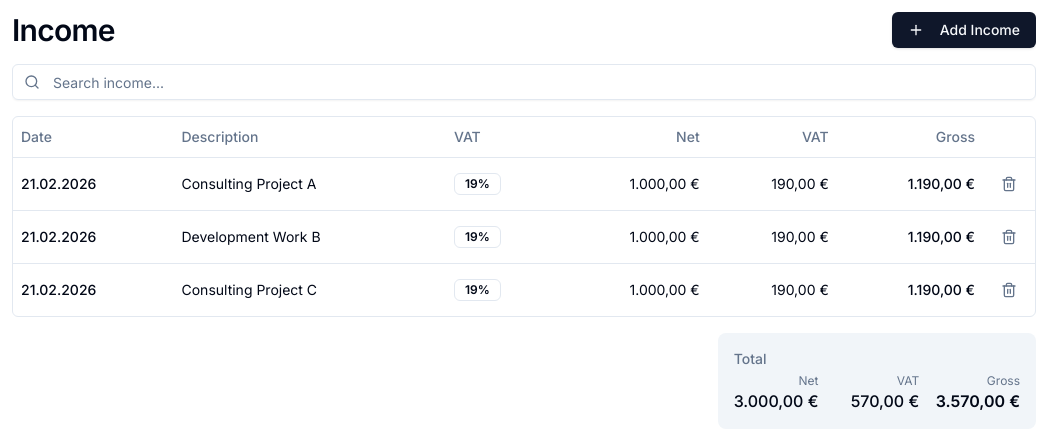
IncomeList › filtering › filters by search term
This screenshot has width=1048, height=446.
Step 1. Type "Consulting" into the field with placeholder "Search income..." → (524, 82), box [12,64,1036,100]
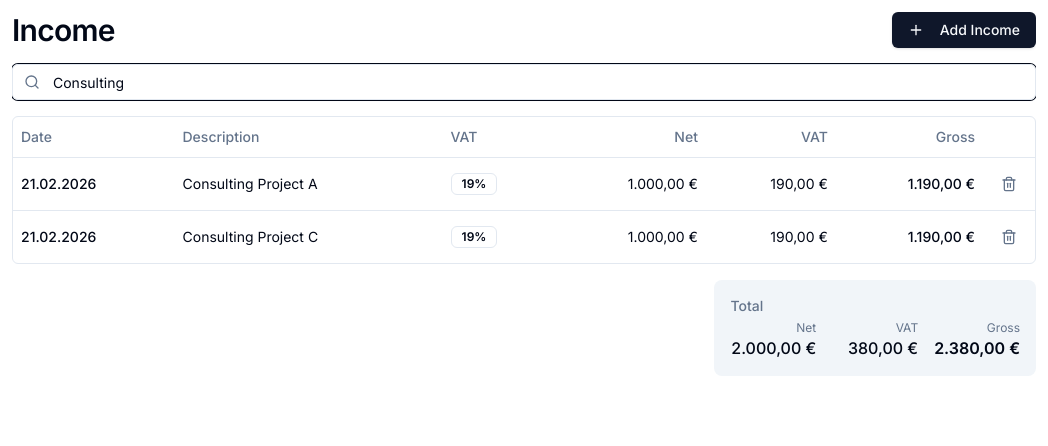
Expected: the text "Consulting Project A" is shown, [182,174,318,194]
Now the text "Development Work B" is gone
